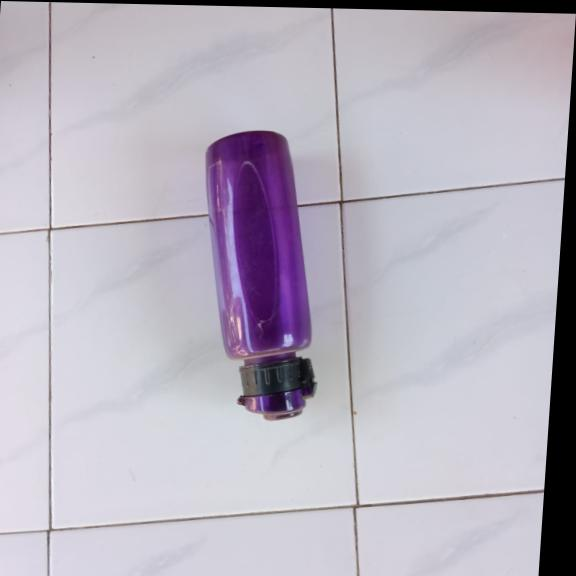Plastik: (187, 127, 335, 421)
